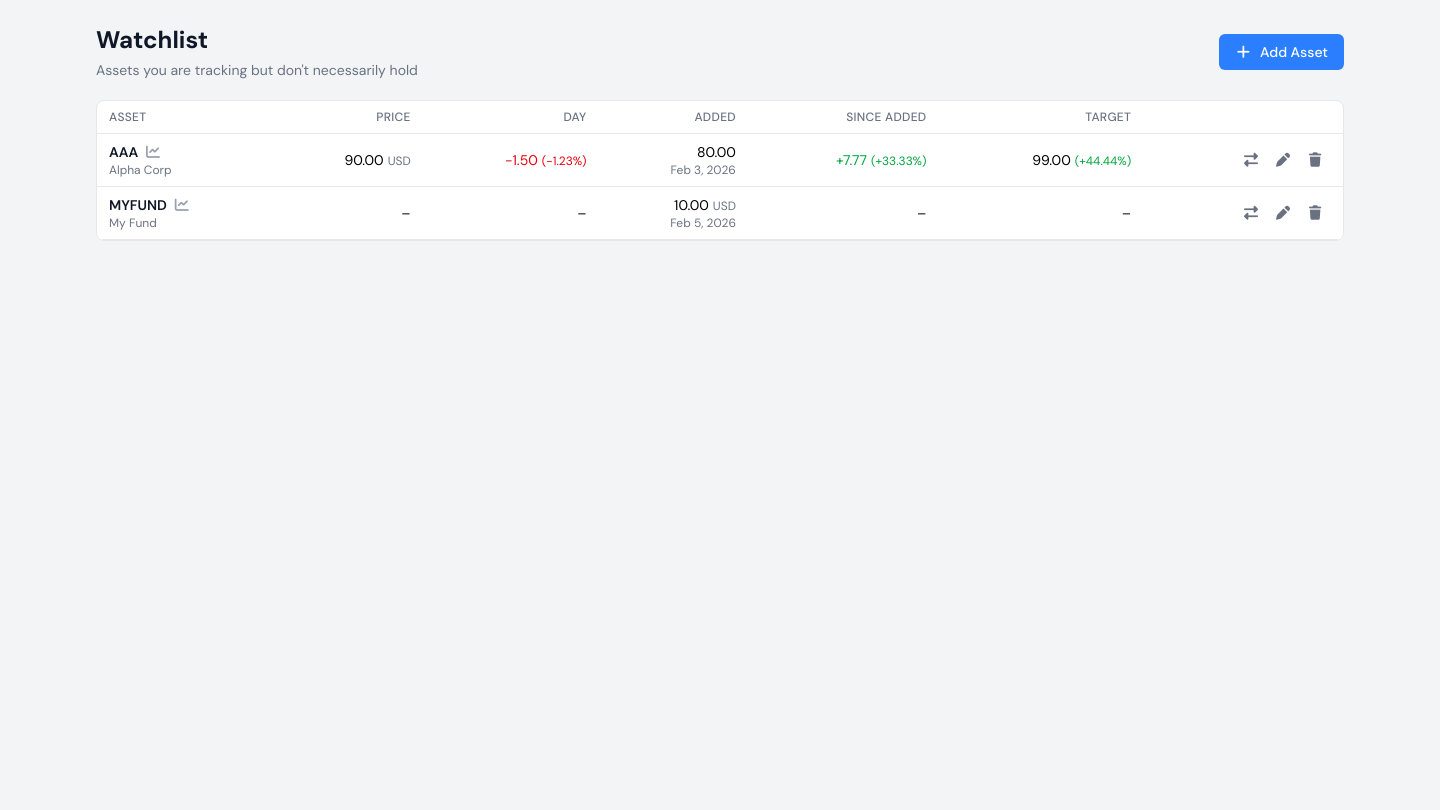
Test: Watchlist page › clears an earlier error once a later action succeeds
Expected: the row with test id "watchlist-item-wi-1" is shown, top-left (97, 134), bottom-right (1343, 186)
Click the button named "remove AAA" at (1315, 160), box top-left (1299, 144), bottom-right (1331, 176)
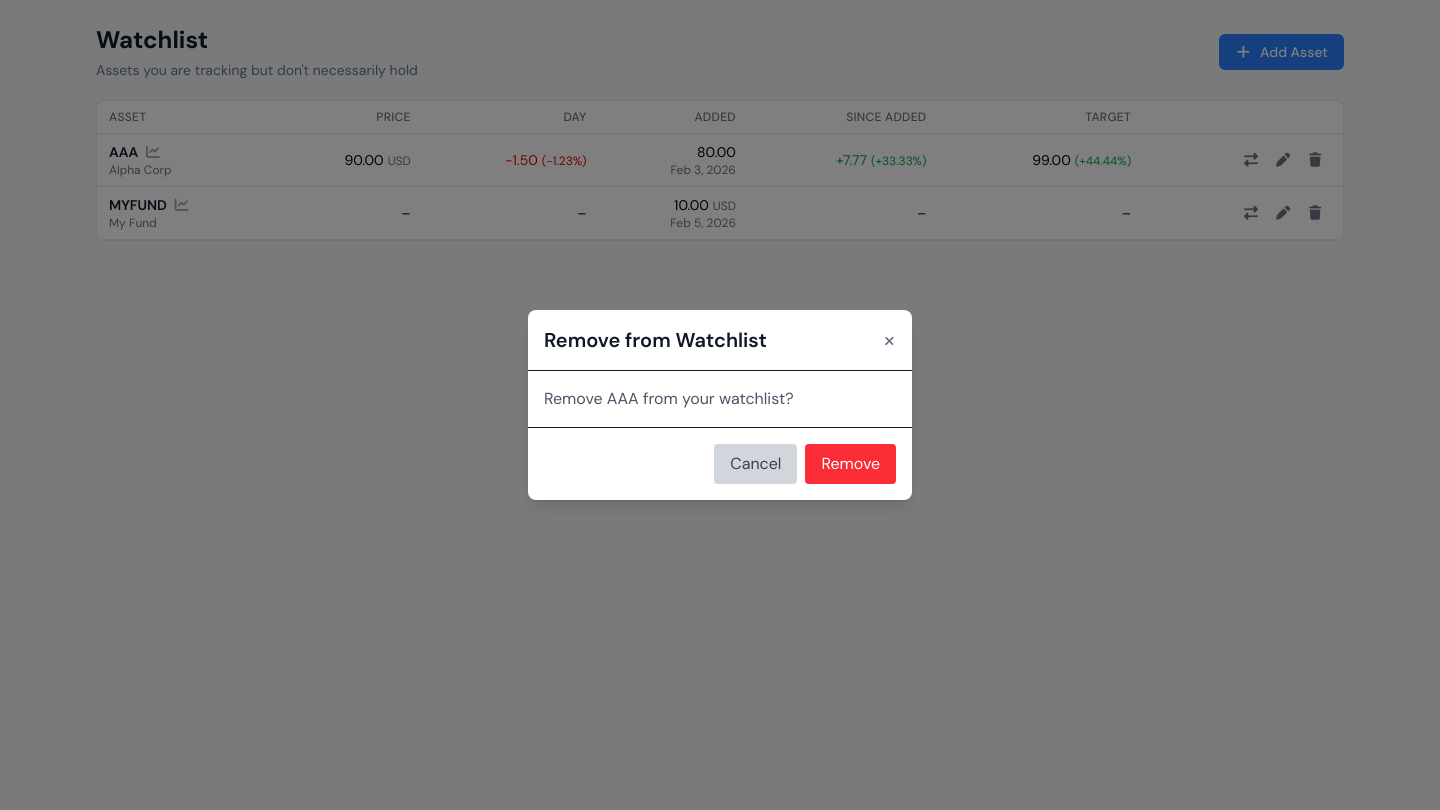
Click the button "Remove" at (851, 464), box top-left (805, 444), bottom-right (896, 484)
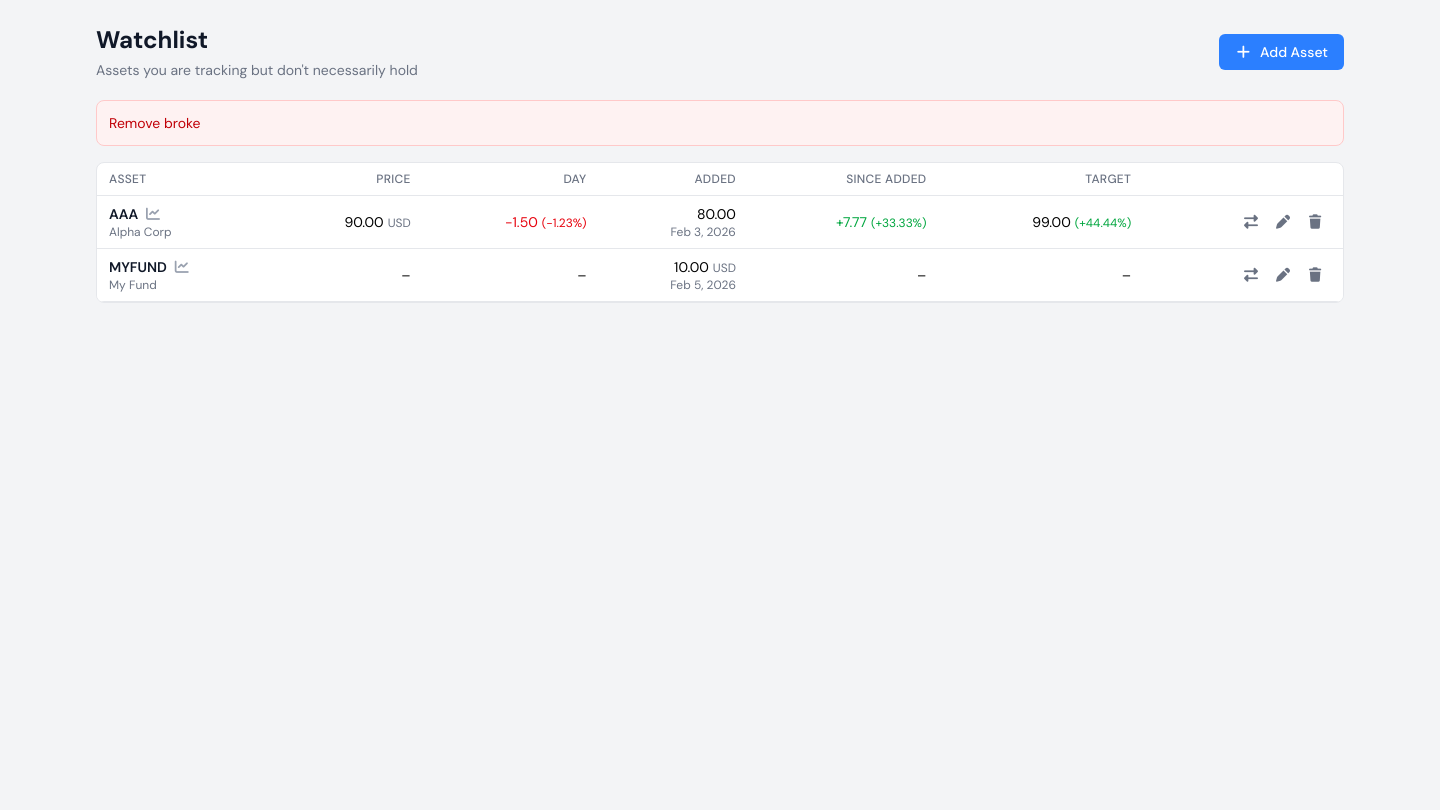
Result: the text "Remove broke" is shown at top-left (96, 100), bottom-right (1344, 146)
Click the button named "remove AAA" at (1315, 222), box top-left (1299, 206), bottom-right (1331, 238)
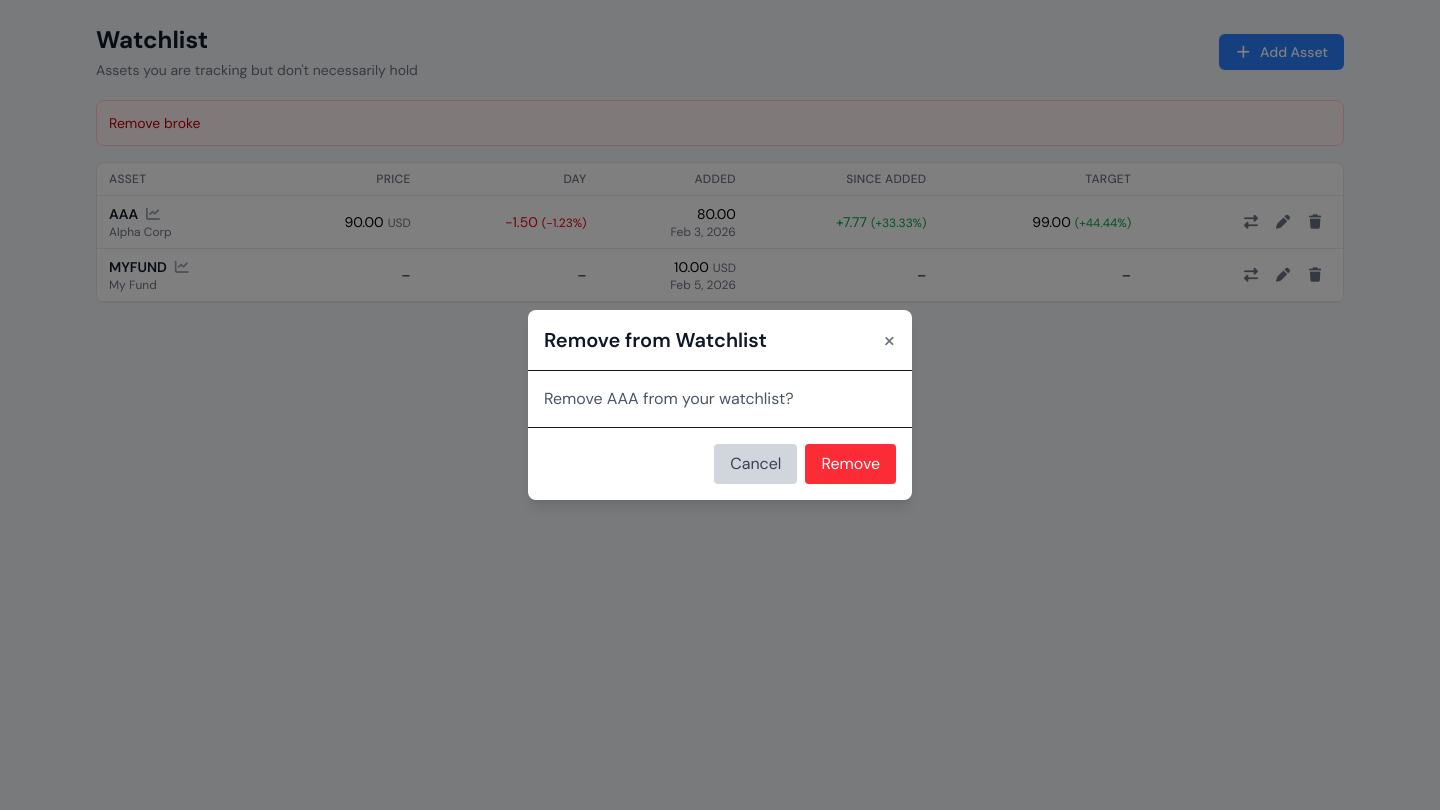
Click the button "Remove" at (851, 464), box top-left (805, 444), bottom-right (896, 484)
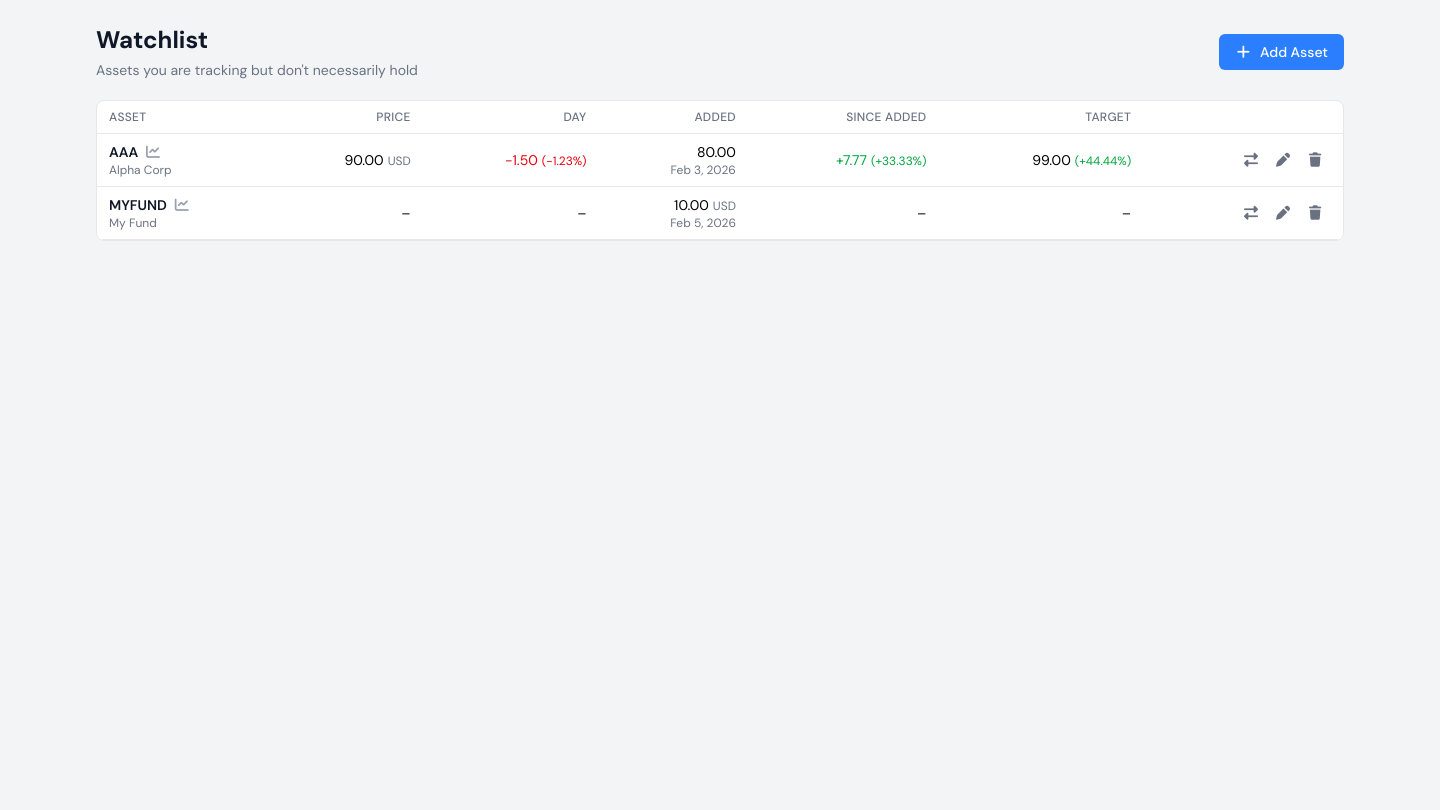
Result: the text "Remove broke" is gone
